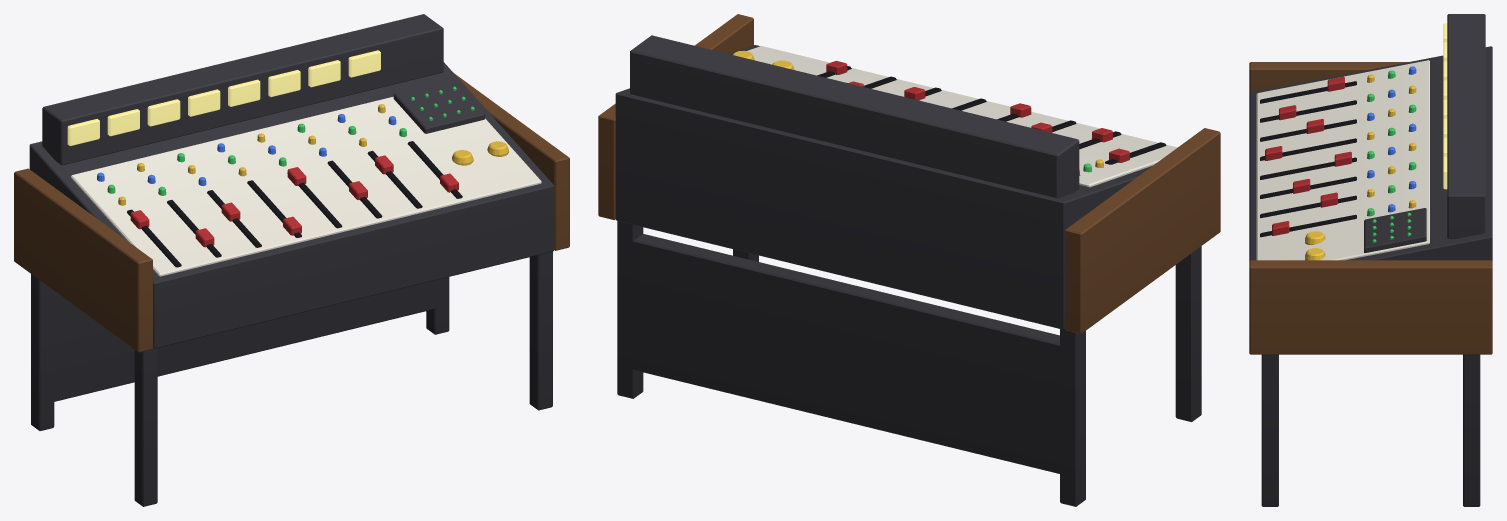
File: source.glb
The picture shows the model from 3 angles, left to right: view 1: azimuth 30°, elevation 25°; view 2: azimuth 150°, elevation 25°; view 3: azimuth 270°, elevation 25°; orthographic projection. The views are drawn at different scales.
Parts seen in each view (by area): view 1: mixing_console; view 2: mixing_console; view 3: mixing_console.
Part boxes in pixels (bbox=[...]): mixing_console: bbox=[14, 14, 569, 506]; mixing_console: bbox=[598, 14, 1220, 506]; mixing_console: bbox=[1249, 14, 1492, 506].
Size of the model in its own units: 1.4 by 0.97 by 0.7.
2 materials, 2 textured.
